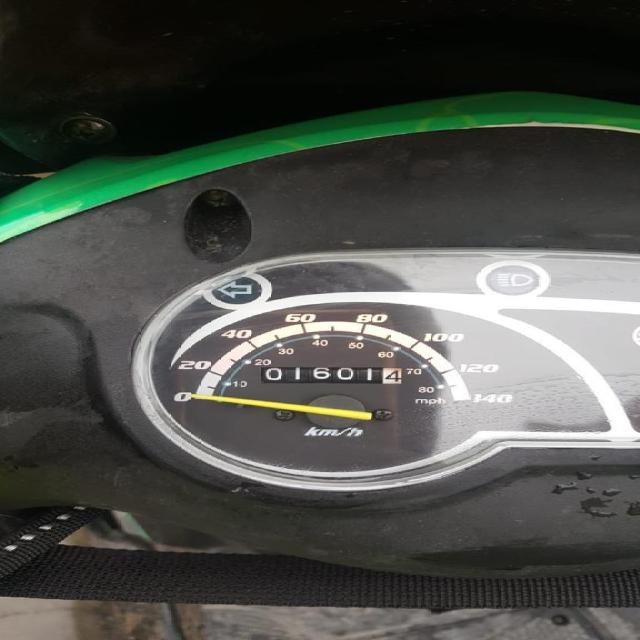odometer: (259, 366, 403, 384)
